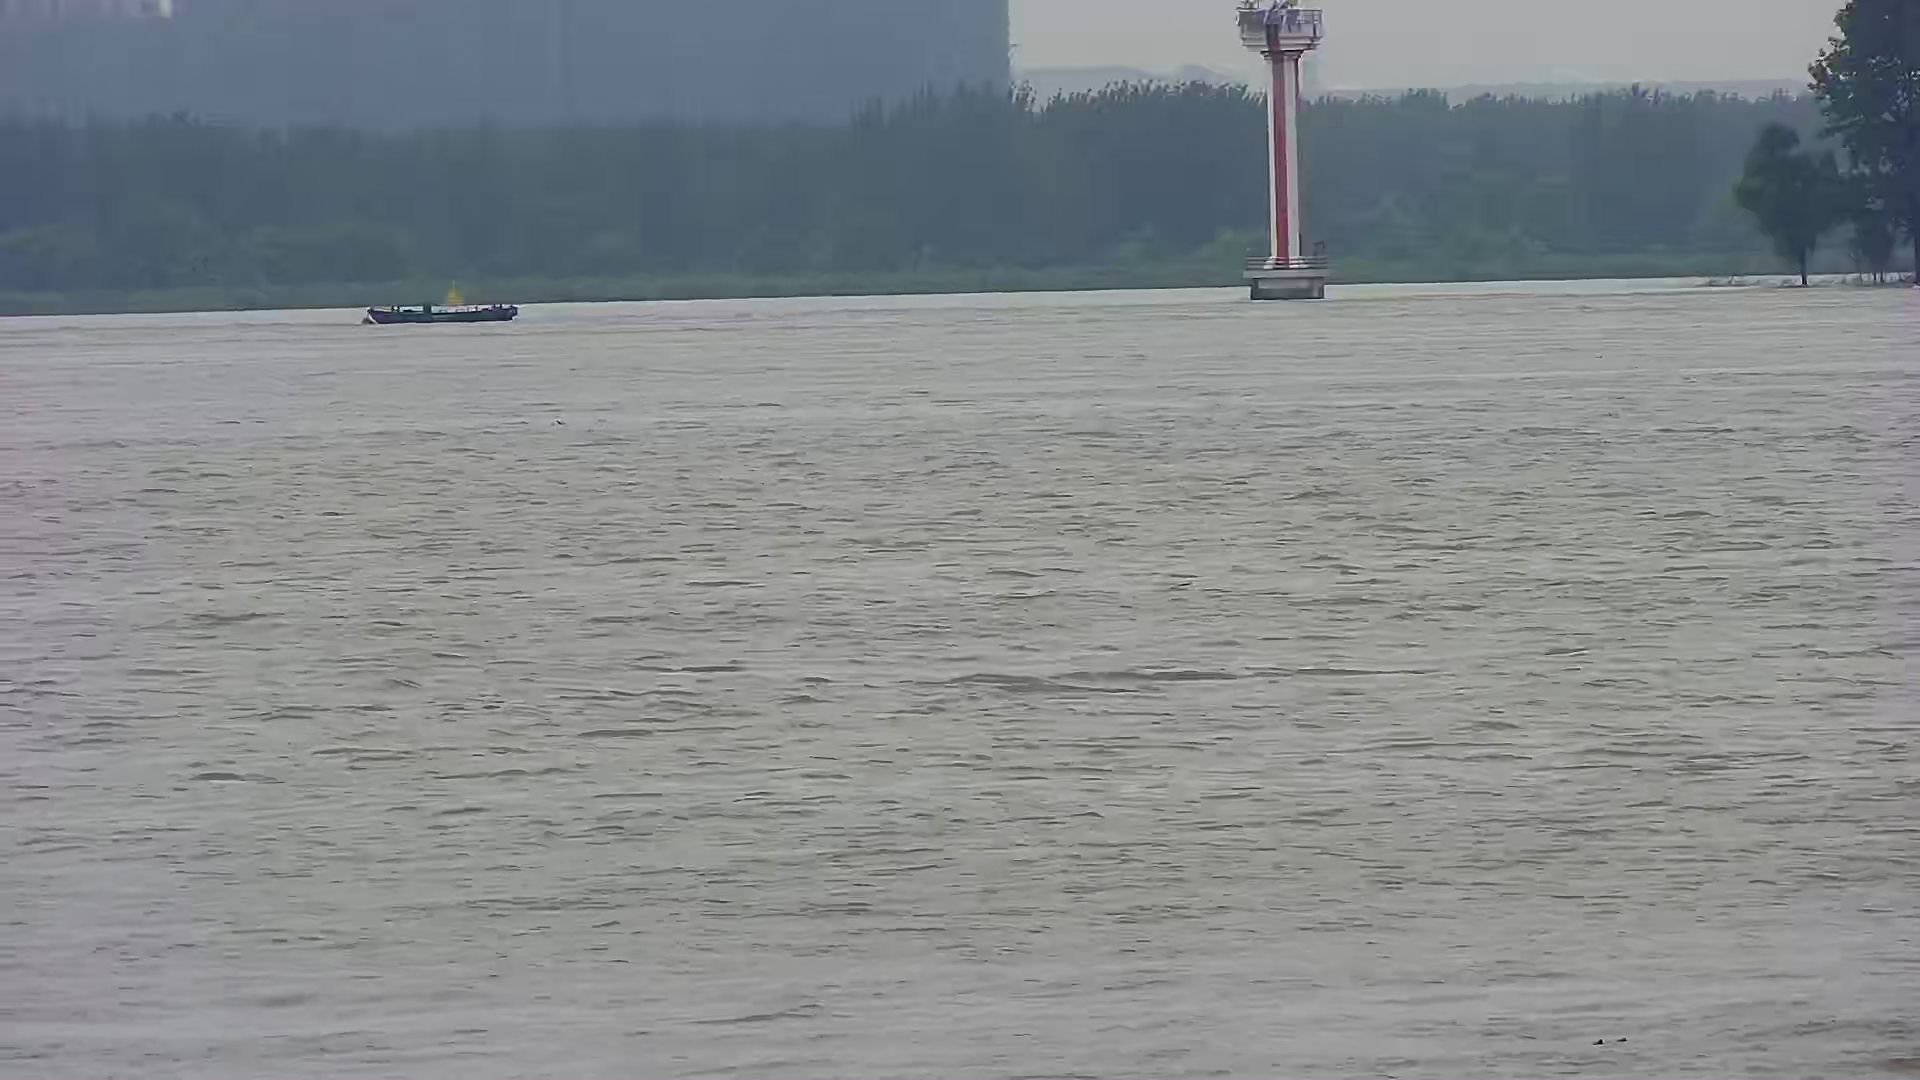boat: (364, 295, 526, 323)
platform: (1236, 3, 1328, 301)
tree: (1807, 1, 1920, 287), (1731, 121, 1850, 287)
